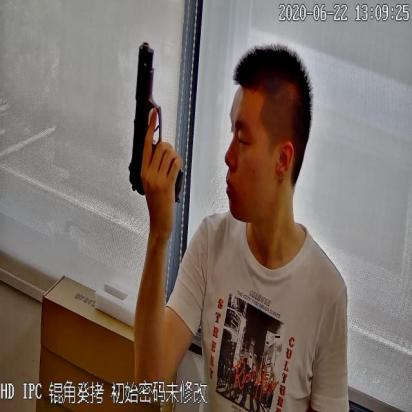Gun: (122, 31, 190, 200)
